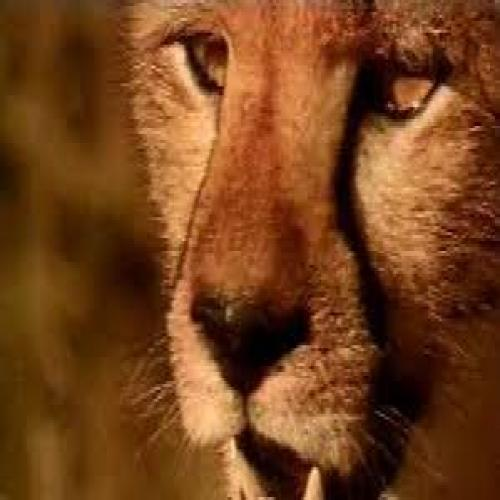cheetah-endangered: (123, 0, 500, 500)
